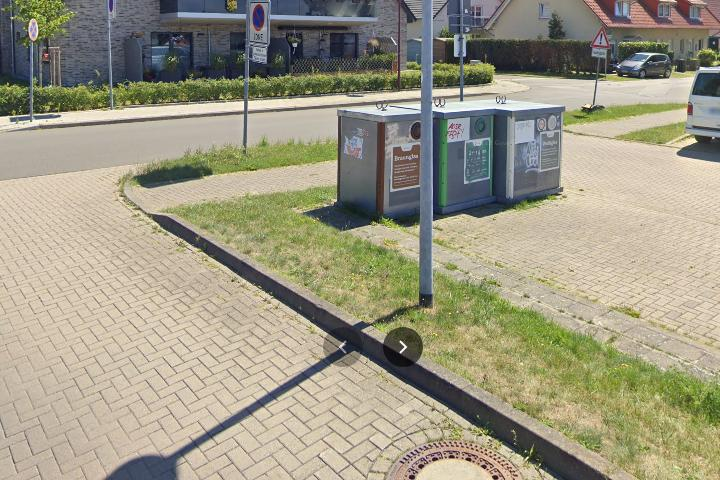google_maps: (321, 326, 366, 368), (382, 326, 423, 367)
traffic_sign: (589, 27, 611, 49), (251, 4, 265, 33), (28, 18, 38, 41)
vehicle: (614, 50, 675, 81)
